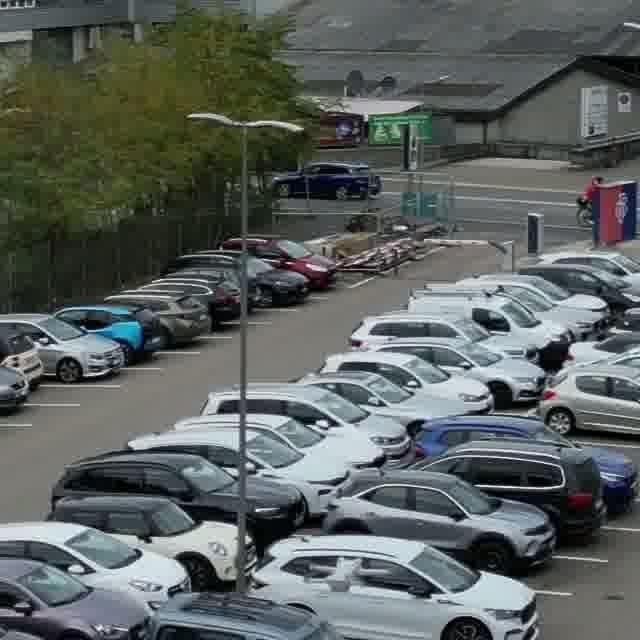Drohne: (305, 559, 365, 592)
